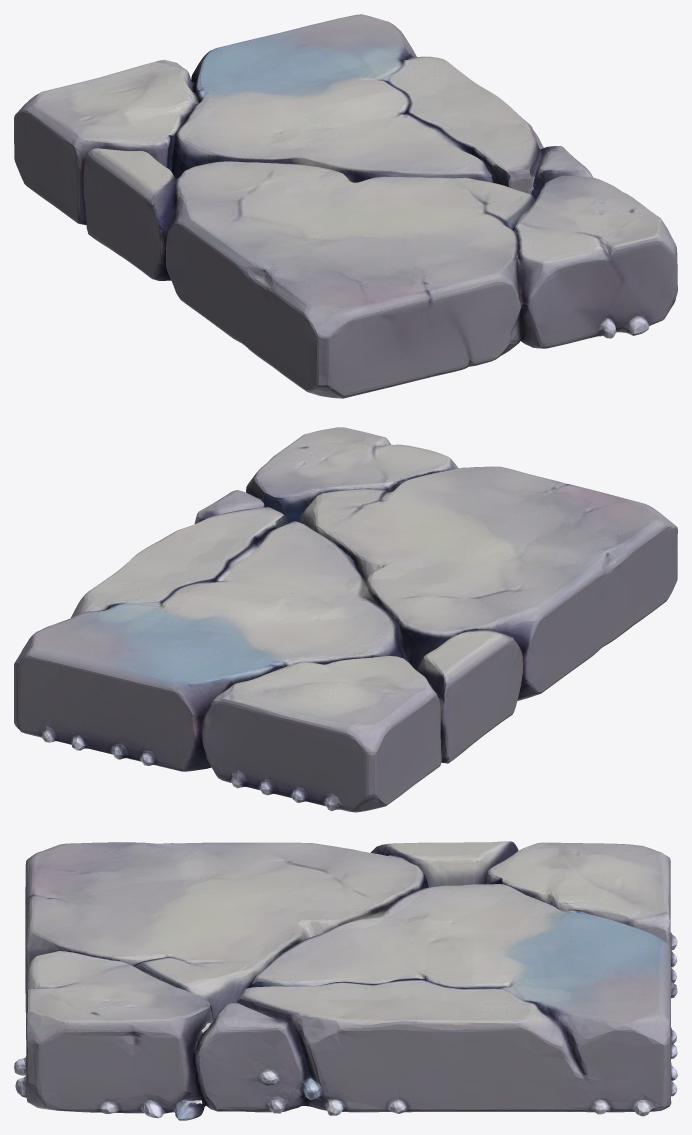
The model's file is fragile_slab.glb.
3 views of the same model, one above another, from view 1: azimuth 30°, elevation 25°; view 2: azimuth 150°, elevation 25°; view 3: azimuth 270°, elevation 25° (orthographic). The views are drawn at different scales.
Visible parts, largest first — view 1: tmph9wkgnxg.ply; view 2: tmph9wkgnxg.ply; view 3: tmph9wkgnxg.ply.
Part boxes in pixels (x1,y1,x2,y2): tmph9wkgnxg.ply: (14,14,677,398); tmph9wkgnxg.ply: (14,427,677,812); tmph9wkgnxg.ply: (14,841,677,1120).
Size of the model in its own units: 1.37 by 0.3257 by 2.
Materials: 1 (1 with a texture image).
